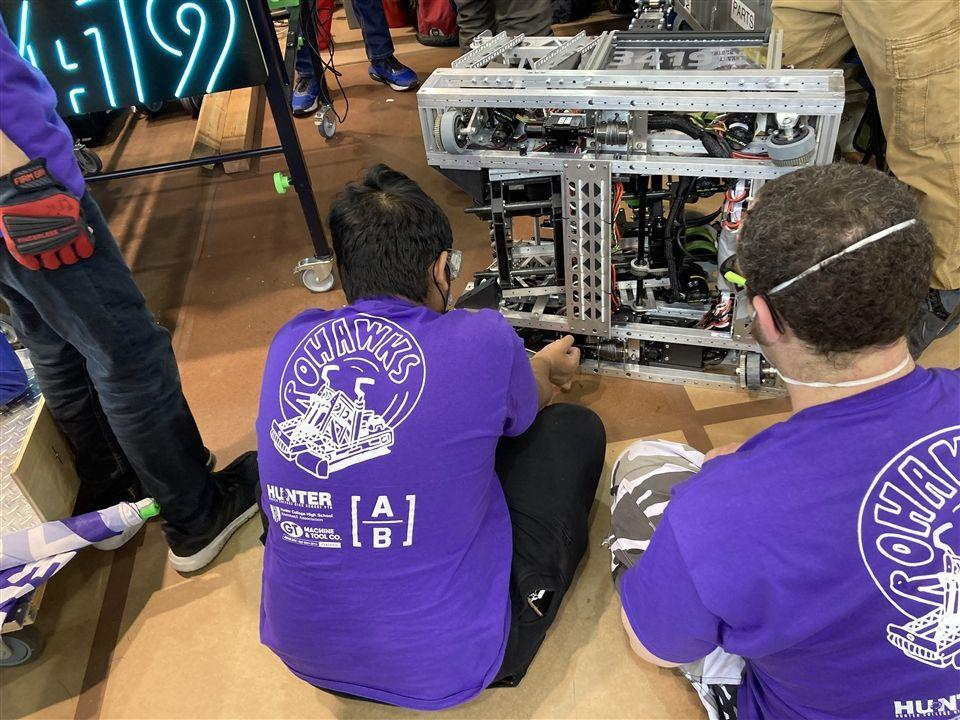robot: (396, 0, 852, 420)
